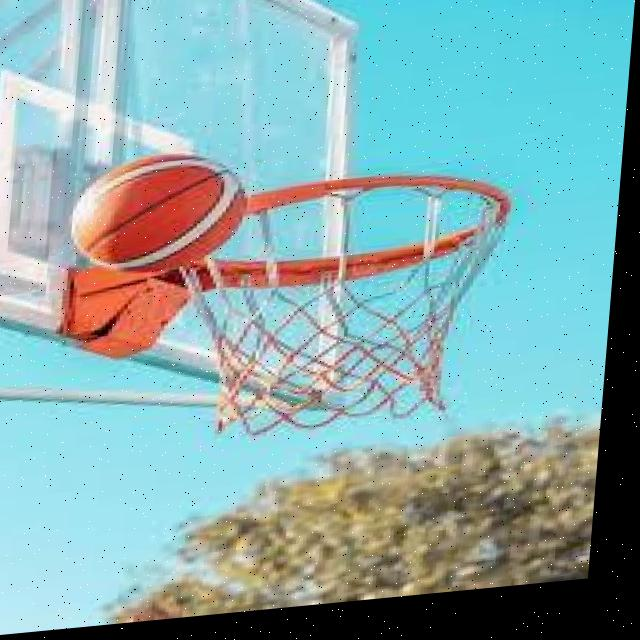rebound_hit: (67, 145, 265, 284)
